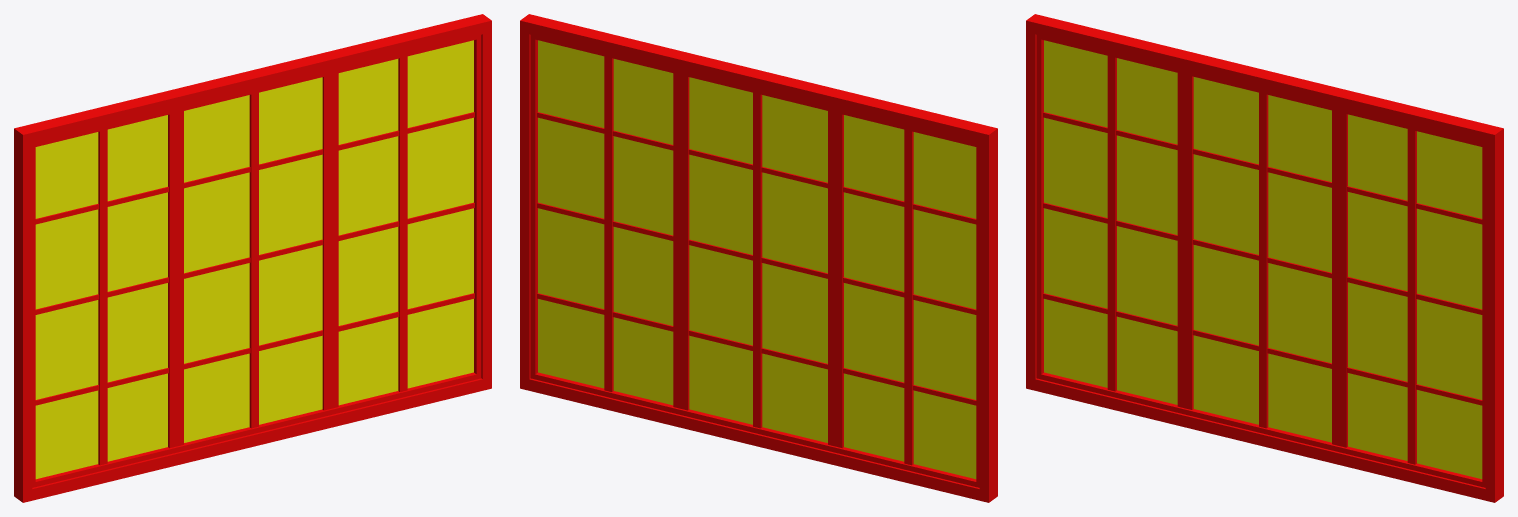
Rendered from window_fixed_96x72.glb.
3 renders of one model, left to right at view 1: azimuth 30°, elevation 25°; view 2: azimuth 150°, elevation 25°; view 3: azimuth 330°, elevation 25°, orthographic.
Parts seen in each view (by area): view 1: window_fixed_96x72; view 2: window_fixed_96x72; view 3: window_fixed_96x72.
Part boxes in pixels (<box>): window_fixed_96x72: <box>14,14,491,502</box>; window_fixed_96x72: <box>520,14,997,502</box>; window_fixed_96x72: <box>1026,14,1503,502</box>.
Bounding box in the file's own units: 2.44 × 1.83 × 0.0812.
